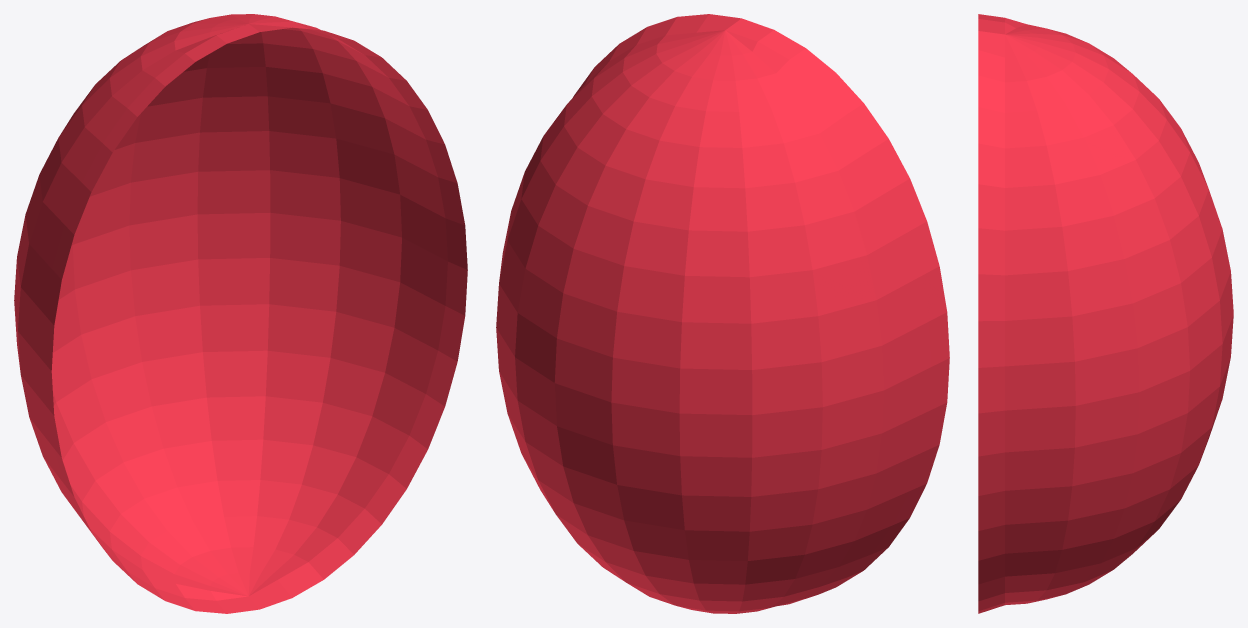
The model's file is neus.fbx.
3 renders of one model, left to right at view 1: azimuth 30°, elevation 25°; view 2: azimuth 150°, elevation 25°; view 3: azimuth 270°, elevation 25°, orthographic.
Visible parts, largest first — view 1: Sphere; view 2: Sphere; view 3: Sphere.
Part boxes in pixels (bbox=[...]): Sphere: bbox=[14, 14, 467, 613]; Sphere: bbox=[496, 14, 949, 613]; Sphere: bbox=[978, 14, 1233, 613].
Size of the model in its own units: 206 by 273 by 112.
